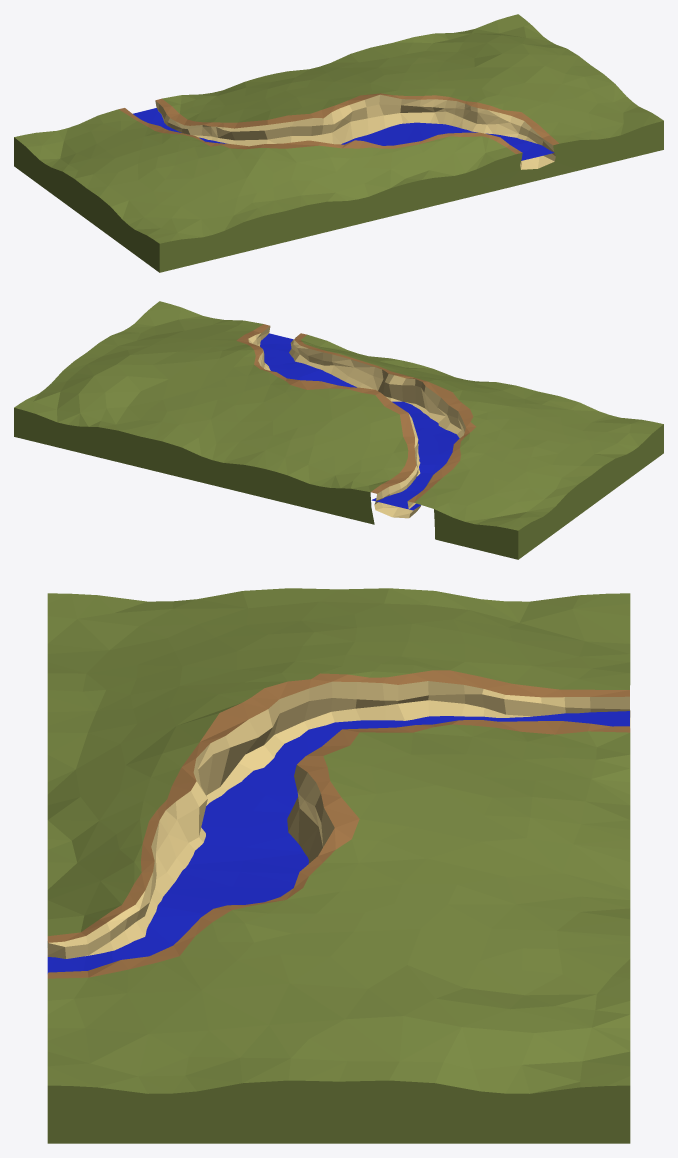
File: Terrian_River_STurn_Flat-01.fbx
The picture shows the model from 3 angles, top to bottom: view 1: azimuth 30°, elevation 25°; view 2: azimuth 150°, elevation 25°; view 3: azimuth 270°, elevation 25°; orthographic projection. The views are drawn at different scales.
Visible parts, largest first — view 1: Terrian_River_STurn_Flat-01; view 2: Terrian_River_STurn_Flat-01; view 3: Terrian_River_STurn_Flat-01.
Boxes of the visible parts, x1,y1,x2,y2 form: Terrian_River_STurn_Flat-01: (14, 14, 663, 272); Terrian_River_STurn_Flat-01: (14, 301, 663, 559); Terrian_River_STurn_Flat-01: (47, 588, 630, 1143).
Size of the model in its own units: 7200 by 839 by 3601.
